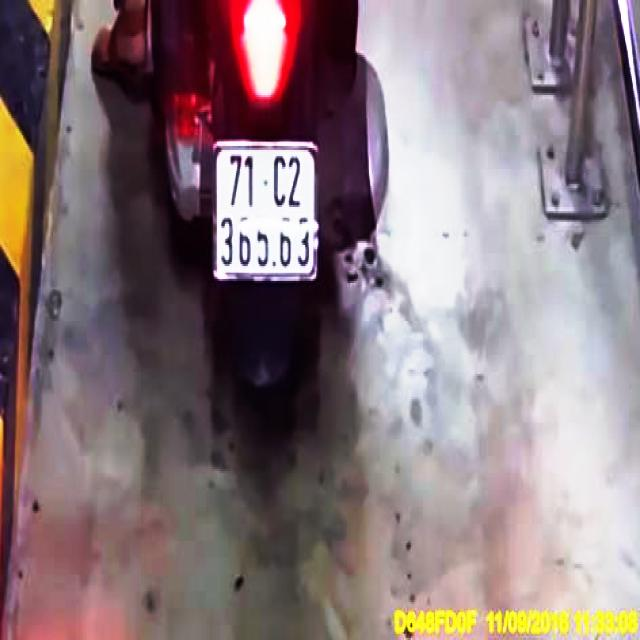license_plate: (217, 144, 318, 277)
